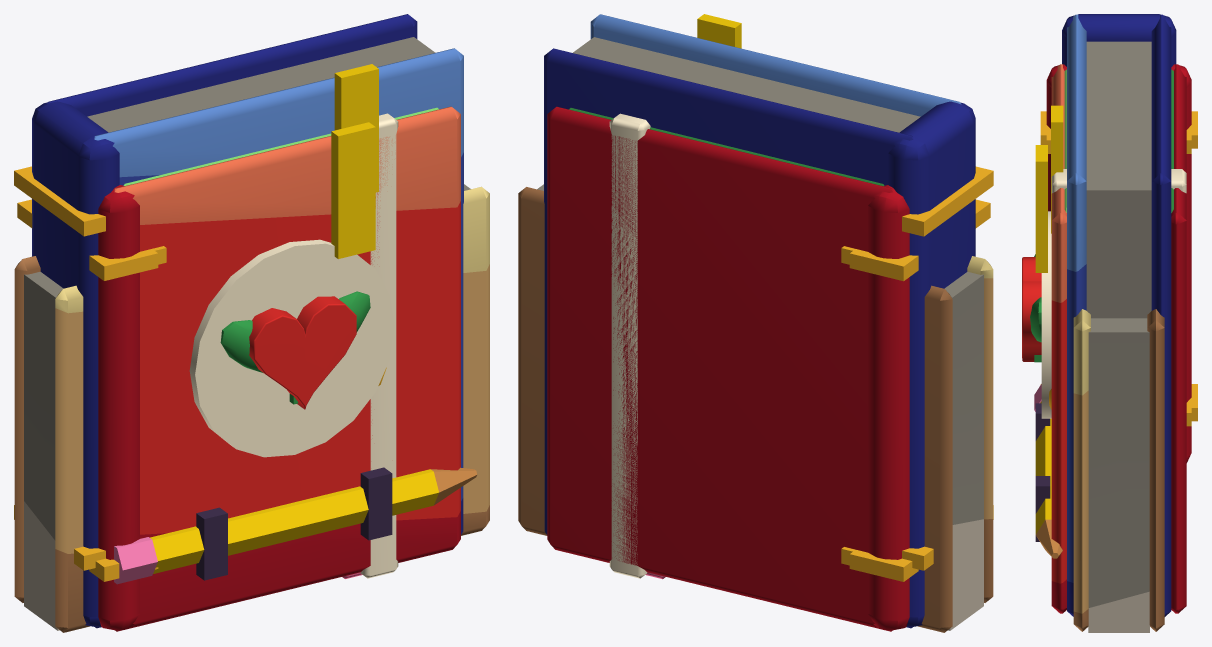
Rendered from items_book-burrow.glb.
3 renders of one model, left to right at view 1: azimuth 30°, elevation 25°; view 2: azimuth 150°, elevation 25°; view 3: azimuth 270°, elevation 25°, orthographic. The views are drawn at different scales.
Visible parts, largest first — view 1: boo-cookbook, boo-storybook, boo-sketchbook, boo-fieldguide; view 2: boo-cookbook, boo-storybook, boo-sketchbook, boo-fieldguide; view 3: boo-storybook, boo-sketchbook, boo-cookbook, boo-fieldguide.
Part boxes in pixels (x1,y1,x2,y2): boo-cookbook: (17,106,460,631); boo-storybook: (14,14,463,628); boo-sketchbook: (14,184,489,632); boo-fieldguide: (110,107,438,578); boo-cookbook: (547,106,990,631); boo-storybook: (544,14,993,628); boo-sketchbook: (518,184,993,632); boo-fieldguide: (569,108,897,578); boo-storybook: (1051,14,1176,616); boo-sketchbook: (1034,309,1164,632); boo-cookbook: (1022,64,1197,613); boo-fieldguide: (1030,69,1191,426).
Bounding box in the file's own units: 0.37 × 0.415 × 0.143.
